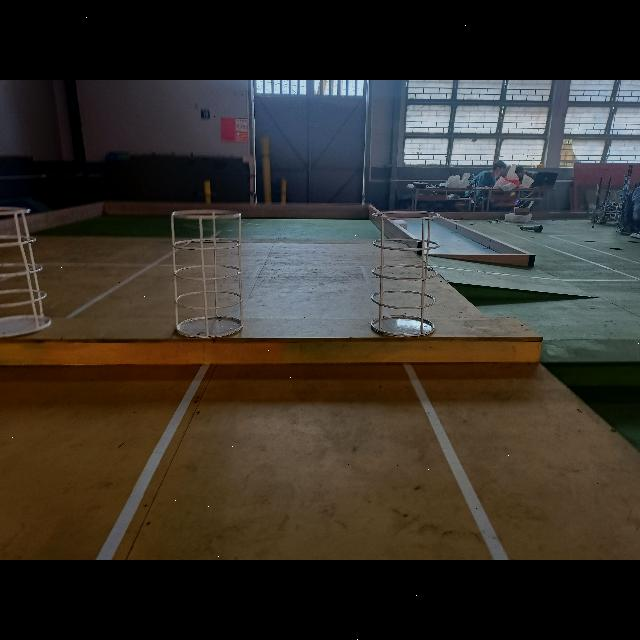S: (170, 208, 246, 340), (369, 209, 442, 339), (0, 206, 53, 341)
